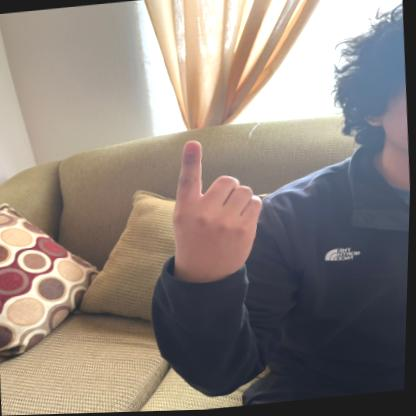T: (160, 127, 271, 280)
